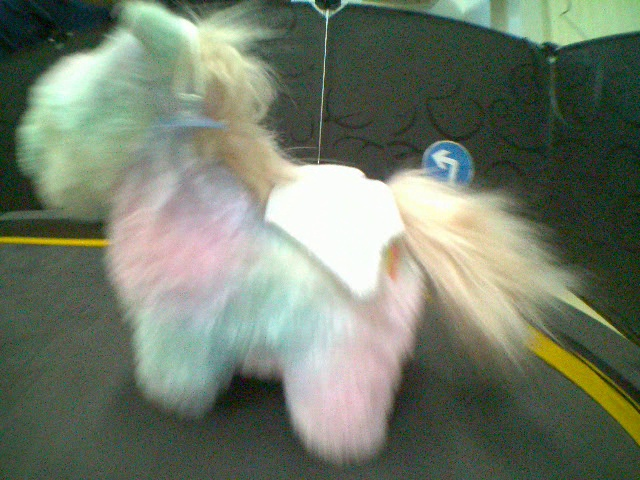unicorn: (11, 2, 562, 468)
